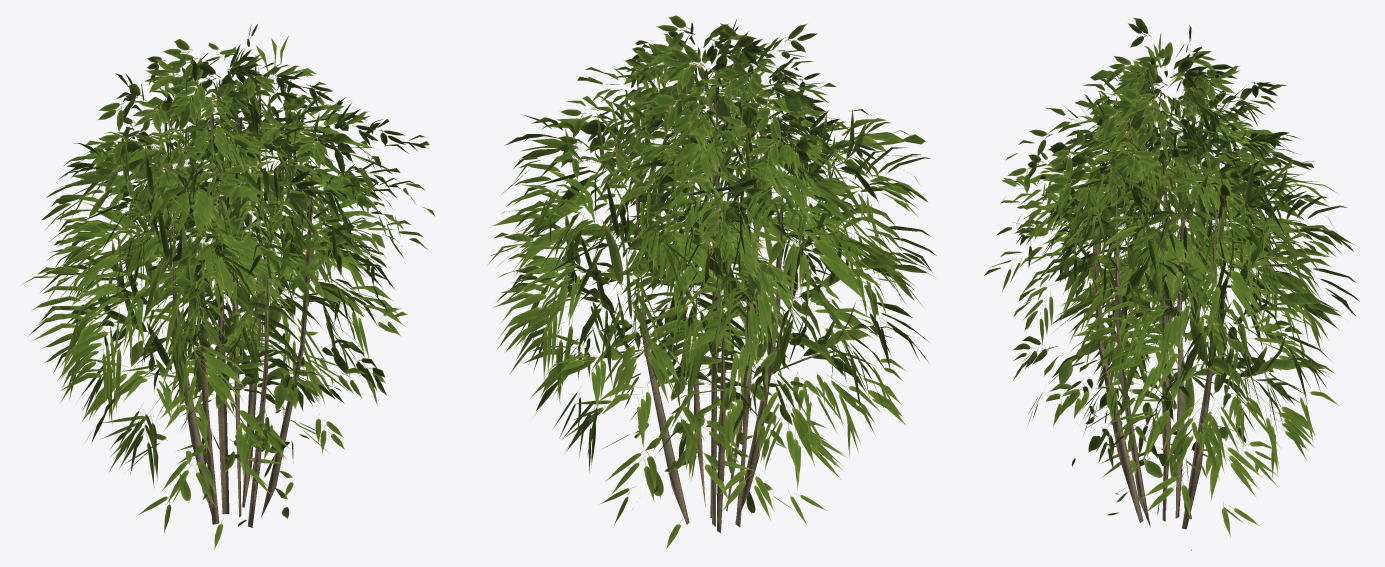
Rendered from bamboo.glb.
3 views of the same model, side by side, from view 1: azimuth 30°, elevation 25°; view 2: azimuth 150°, elevation 25°; view 3: azimuth 270°, elevation 25° (orthographic). The views are drawn at different scales.
Visible parts, largest first — view 1: Leaf01_2_3, Leaf02_2_4, Leaf03_2_5, Bark01_2_1; view 2: Leaf01_2_3, Leaf02_2_4, Leaf03_2_5, Bark01_2_1; view 3: Leaf01_2_3, Leaf02_2_4, Leaf03_2_5, Bark01_2_1.
Part boxes in pixels (x1,y1,x2,y2): Leaf01_2_3: (22, 35, 434, 550); Leaf02_2_4: (72, 24, 405, 414); Leaf03_2_5: (96, 54, 374, 526); Bark01_2_1: (169, 113, 313, 527); Leaf01_2_3: (487, 30, 936, 549); Leaf02_2_4: (537, 15, 895, 409); Leaf03_2_5: (565, 63, 867, 514); Bark01_2_1: (634, 98, 784, 532); Leaf01_2_3: (984, 33, 1359, 537); Leaf02_2_4: (1007, 17, 1318, 417); Leaf03_2_5: (1037, 85, 1287, 519); Bark01_2_1: (1093, 113, 1224, 529).
Bounding box in the file's own units: 0.9868 × 1.2 × 0.8928.
5 materials, 5 textured.
